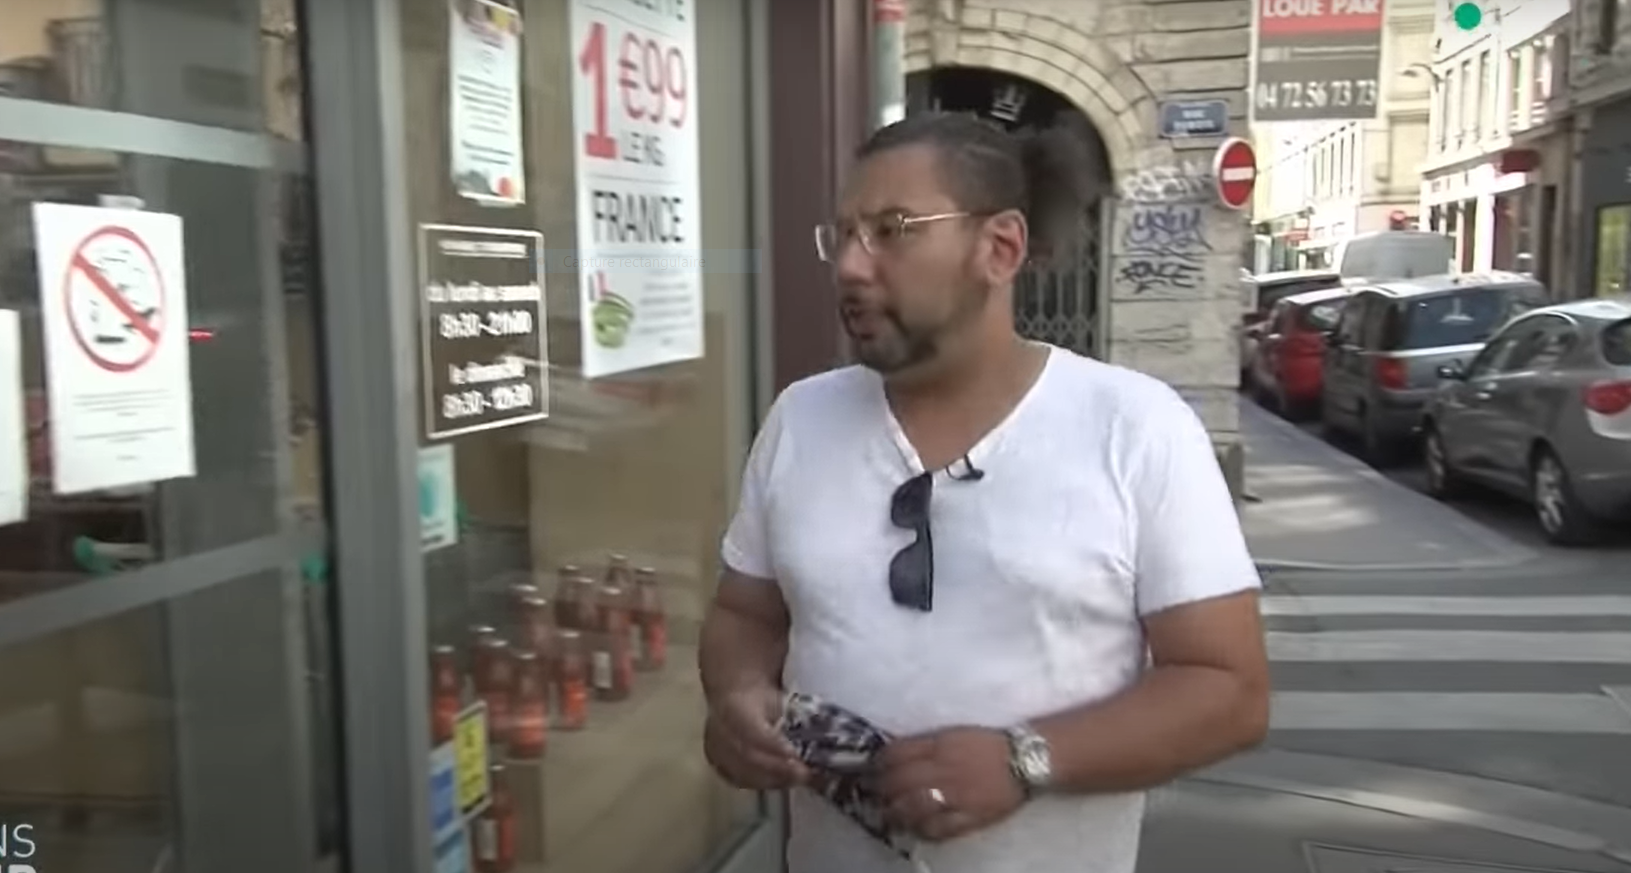without_mask: (836, 209, 945, 332)
